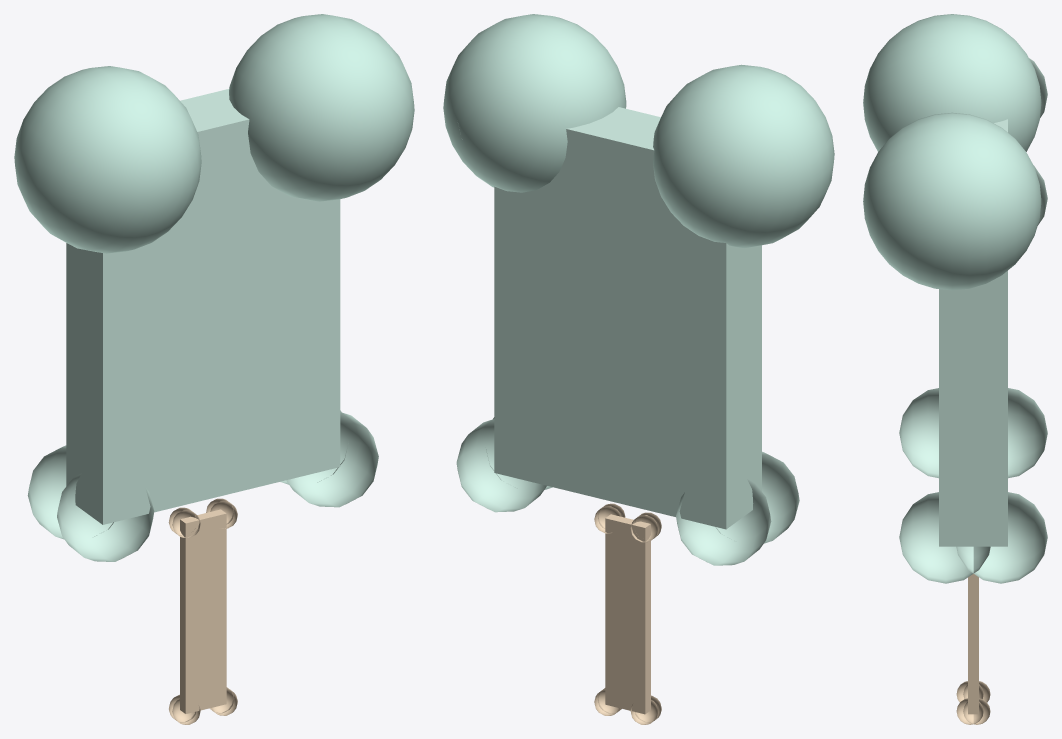
The model's file is popsicle.glb.
3 renders of one model, left to right at view 1: azimuth 30°, elevation 25°; view 2: azimuth 150°, elevation 25°; view 3: azimuth 270°, elevation 25°, orthographic. The views are drawn at different scales.
Visible parts, largest first — view 1: popsicle; view 2: popsicle; view 3: popsicle.
Boxes of the visible parts, box(x1,y1,x2,y2) form: popsicle: box(14, 14, 414, 724); popsicle: box(443, 14, 834, 724); popsicle: box(863, 14, 1047, 724).
Bounding box in the file's own units: 1.94 × 3.35 × 0.87.
